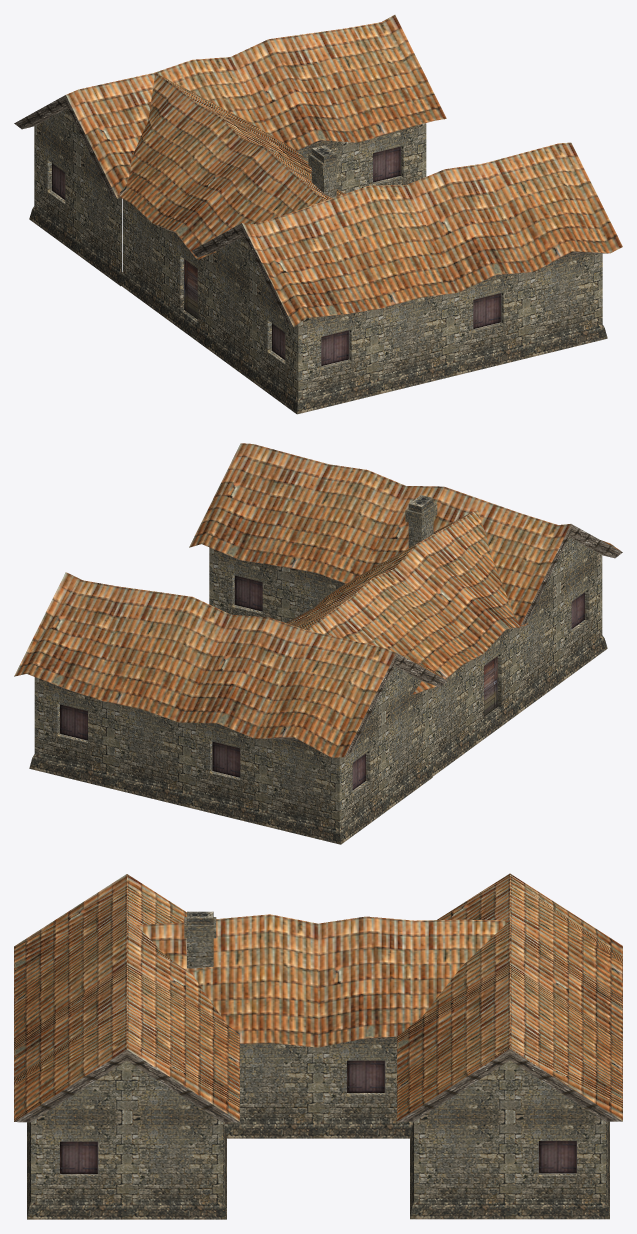
File: s44_b_house_1_6.dae
The picture shows the model from 3 angles, top to bottom: view 1: azimuth 30°, elevation 25°; view 2: azimuth 150°, elevation 25°; view 3: azimuth 270°, elevation 25°; orthographic projection. The views are drawn at different scales.
Visible parts, largest first — view 1: Untitled; view 2: Untitled; view 3: Untitled.
Part boxes in pixels (<box>): Untitled: <box>14,15,622,414</box>; Untitled: <box>14,443,622,844</box>; Untitled: <box>14,873,622,1219</box>.
Size of the model in its own units: 104 by 152 by 54.08.
Materials: 1 (1 with a texture image).
